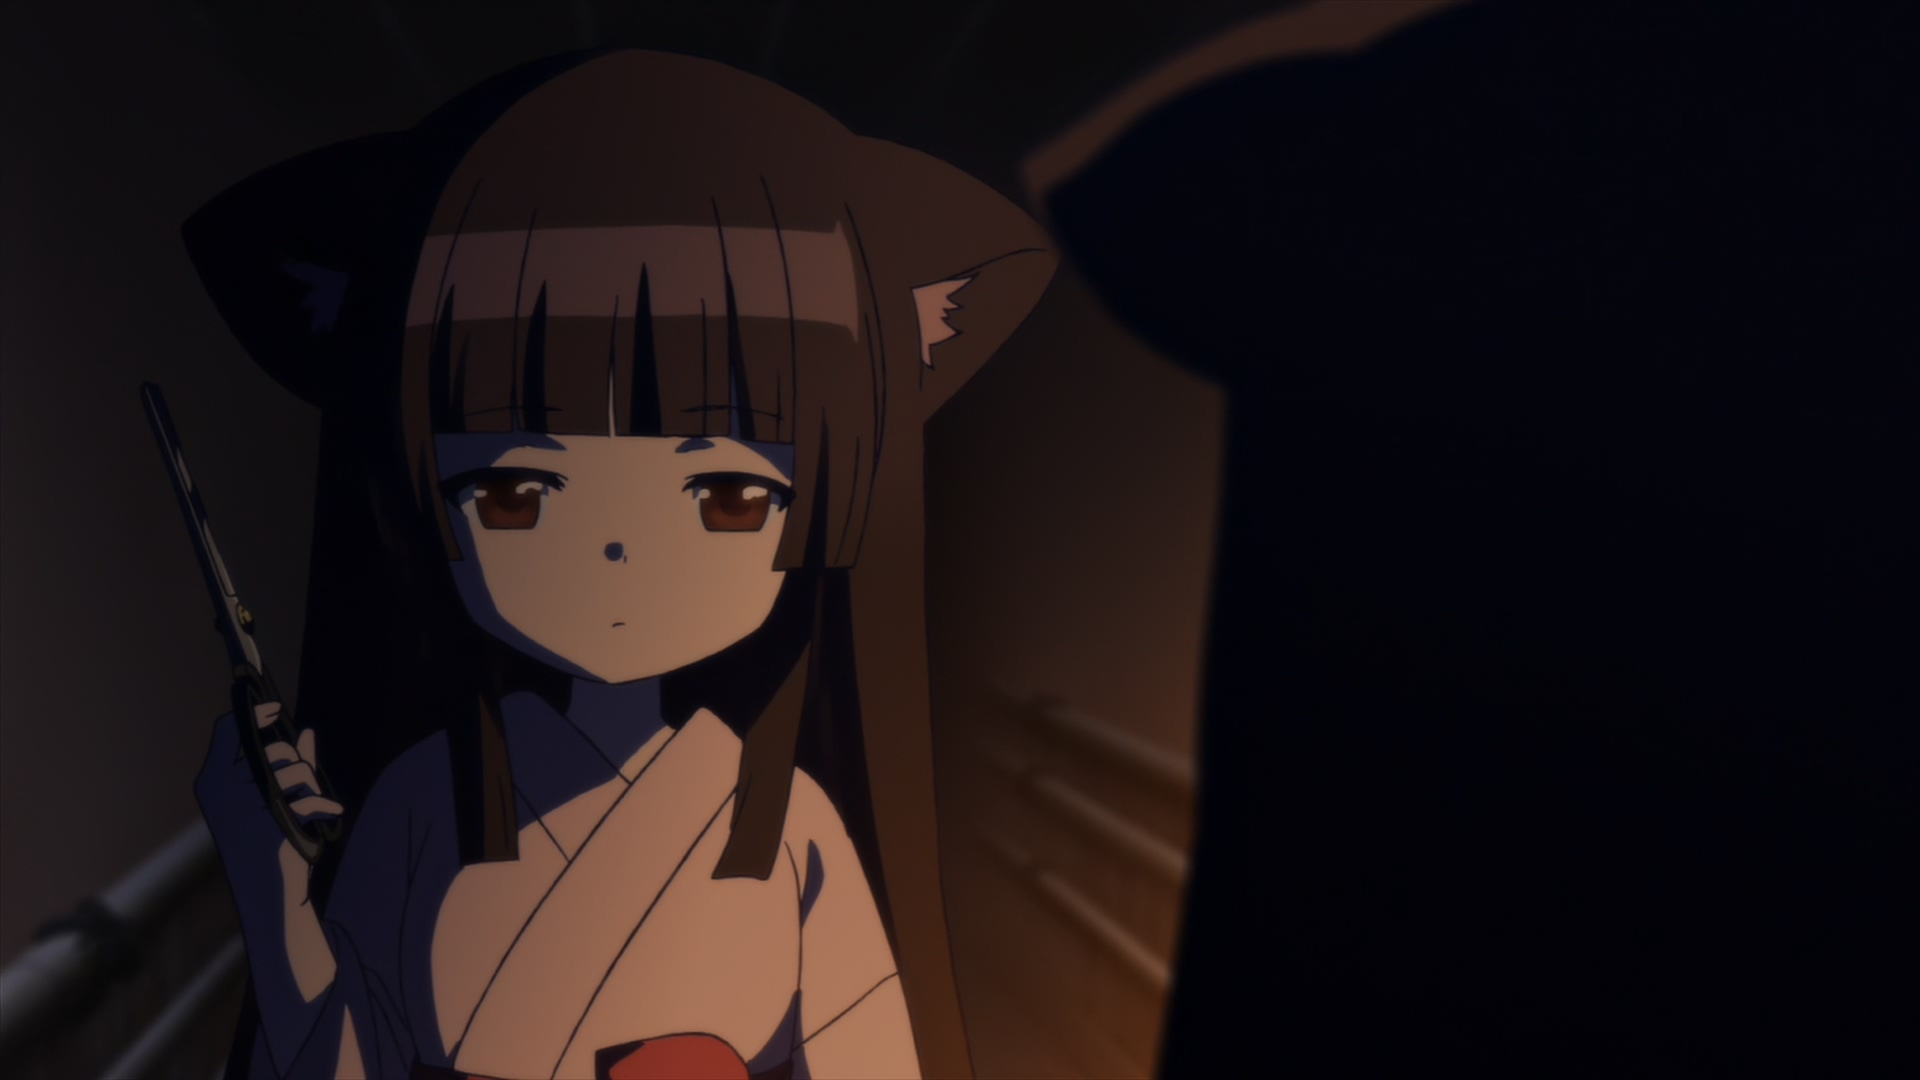樱: (142, 55, 1060, 1080)
